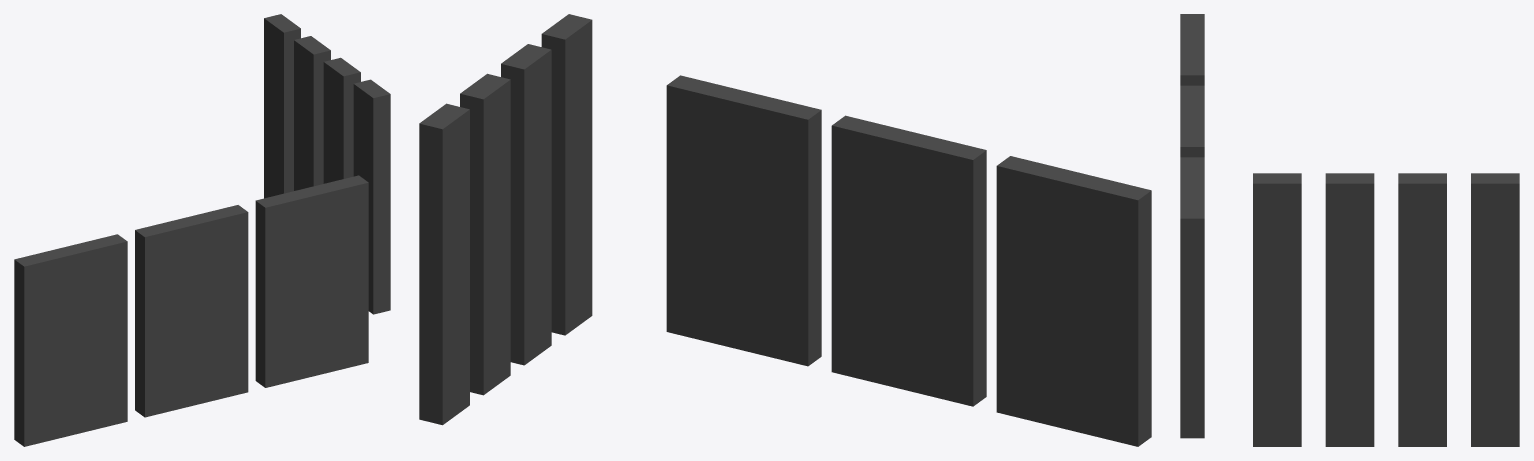
The model's file is fabrica-3.obj.
The picture shows the model from 3 angles, left to right: view 1: azimuth 30°, elevation 25°; view 2: azimuth 150°, elevation 25°; view 3: azimuth 270°, elevation 25°; orthographic projection. The views are drawn at different scales.
Bounding box in the file's own units: 2.3 × 1.3 × 1.4.
